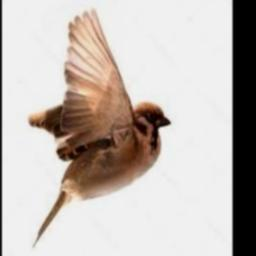Sparrow: (29, 7, 170, 248)
